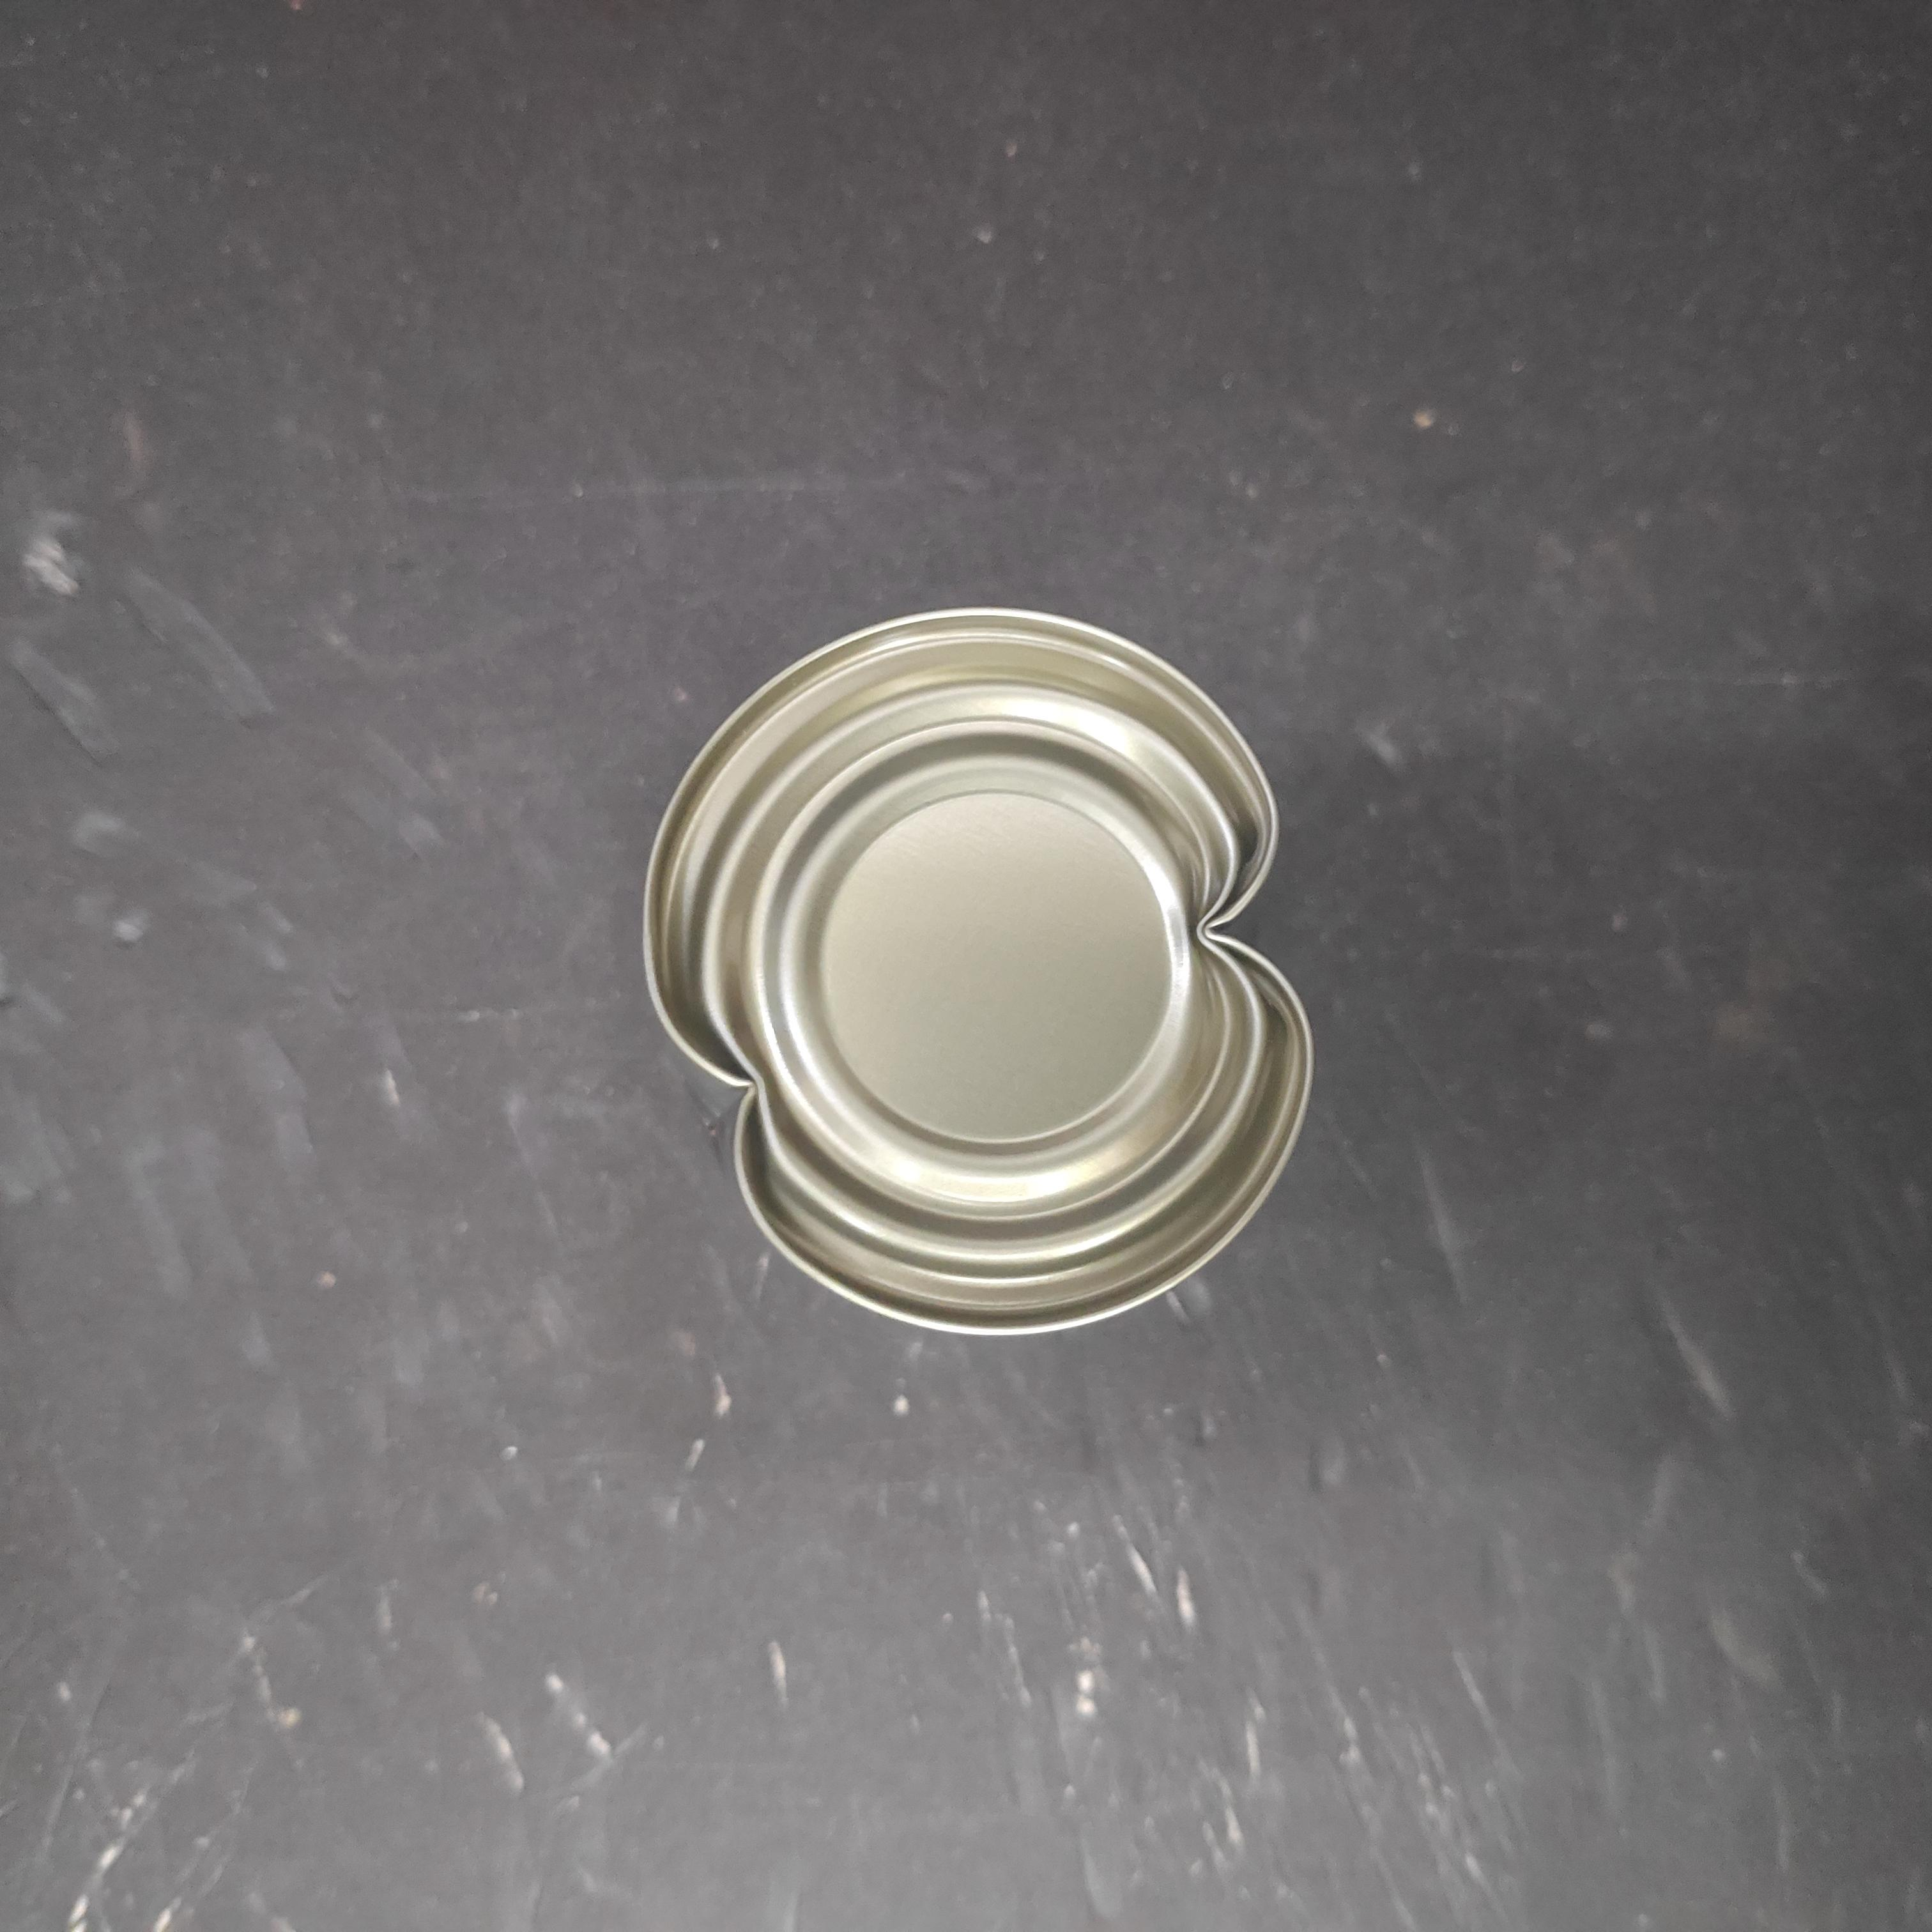Critical Defect: (605, 582, 1301, 1333)
